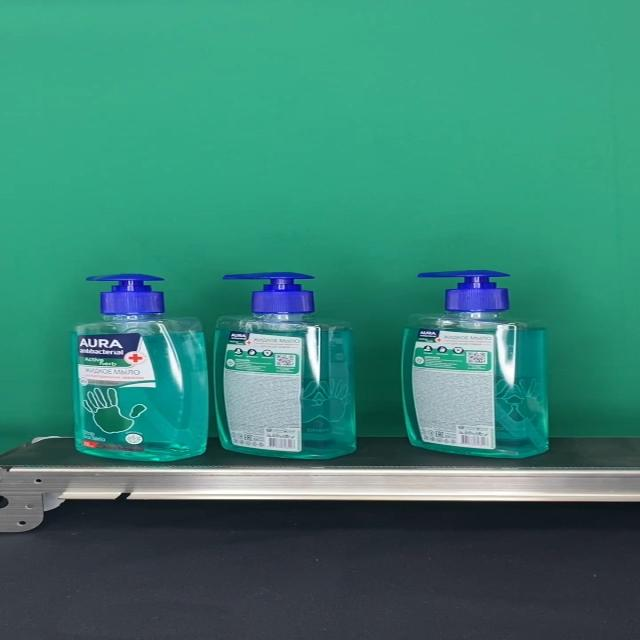Bottle: (400, 270, 549, 458), (212, 271, 356, 459), (71, 274, 208, 462)
Cap: (417, 270, 509, 313), (224, 272, 315, 314), (84, 274, 164, 315)
